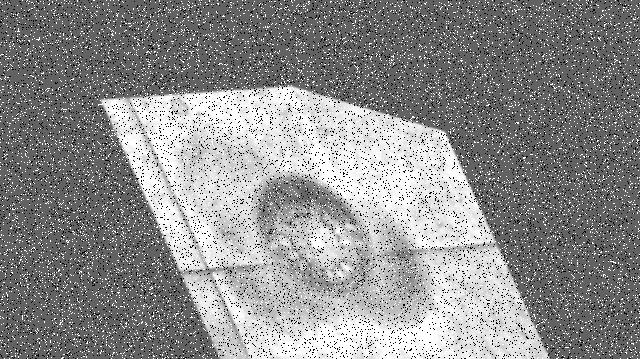pot: (253, 171, 374, 297)
